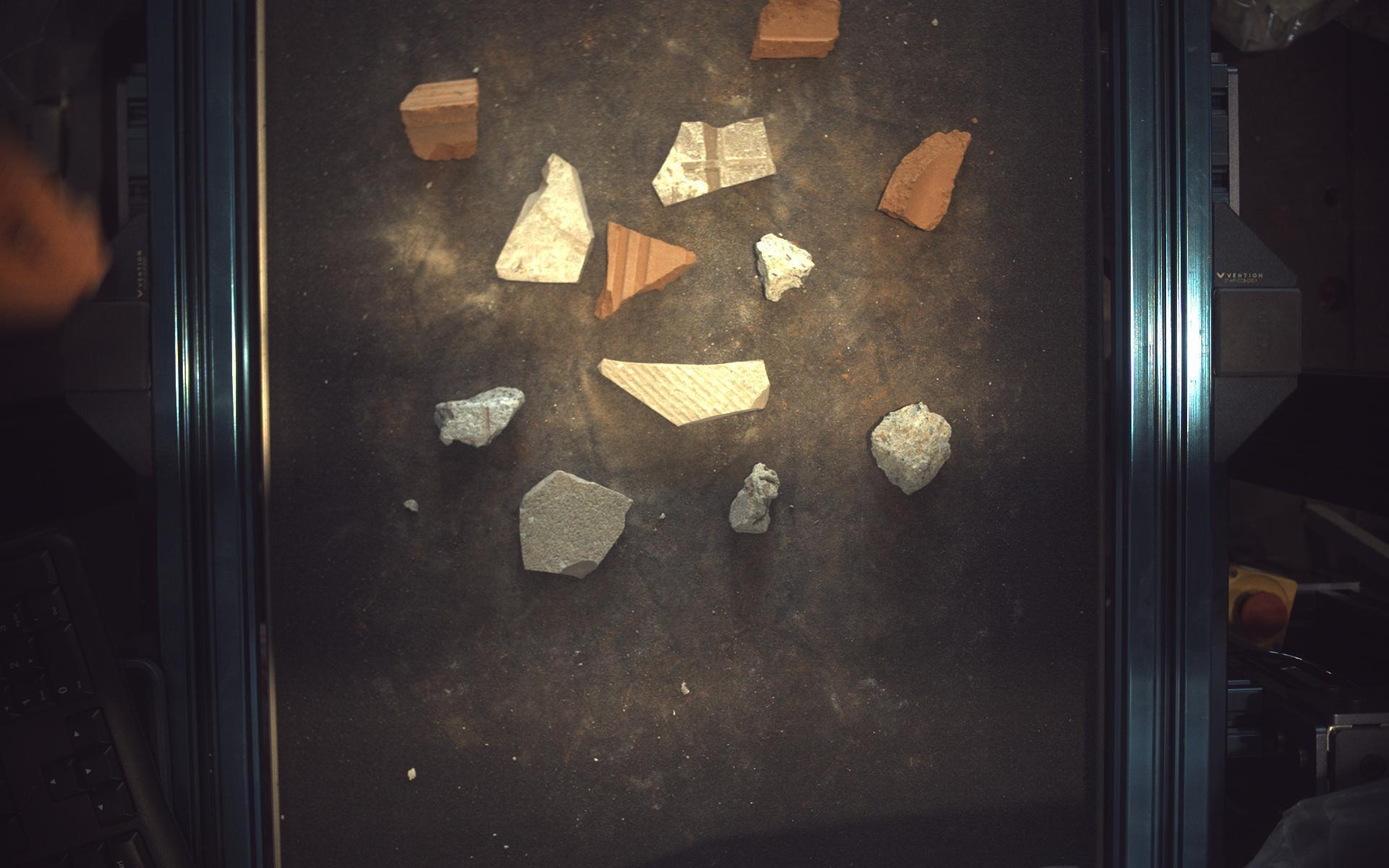brick: (595, 221, 697, 318), (880, 129, 974, 230), (400, 77, 479, 159), (752, 2, 842, 59)
concrete: (873, 403, 953, 495), (435, 387, 526, 447), (757, 233, 815, 301), (730, 463, 781, 535)
tile: (496, 153, 595, 283), (520, 470, 633, 579), (599, 358, 771, 426), (653, 117, 778, 205)
